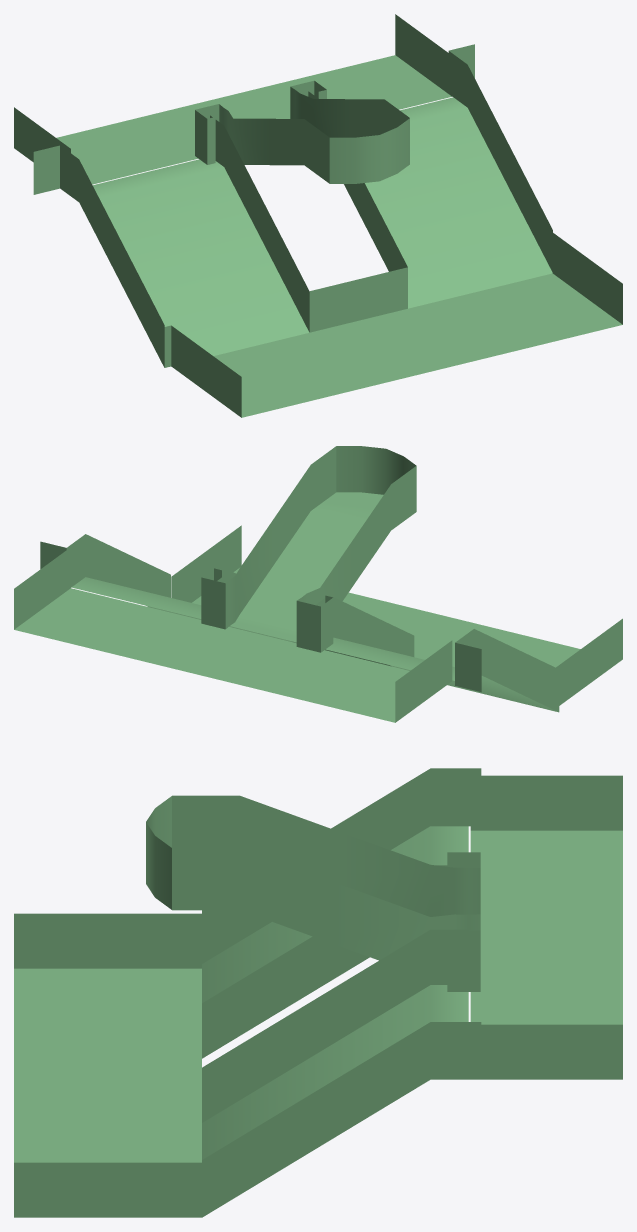
The model's file is Hallway_Stairs_I_16_A_COL.fbx.
3 renders of one model, top to bottom at view 1: azimuth 30°, elevation 25°; view 2: azimuth 150°, elevation 25°; view 3: azimuth 270°, elevation 25°, orthographic. The views are drawn at different scales.
Visible parts, largest first — view 1: Hallway_Stairs_I_16_A_COL; view 2: Hallway_Stairs_I_16_A_COL; view 3: Hallway_Stairs_I_16_A_COL.
Part boxes in pixels (x1=…): Hallway_Stairs_I_16_A_COL: x1=14, y1=14, x2=622, y2=417; Hallway_Stairs_I_16_A_COL: x1=14, y1=446, x2=622, y2=722; Hallway_Stairs_I_16_A_COL: x1=14, y1=768, x2=622, y2=1217.
Size of the model in its own units: 1791 by 780 by 1600.
